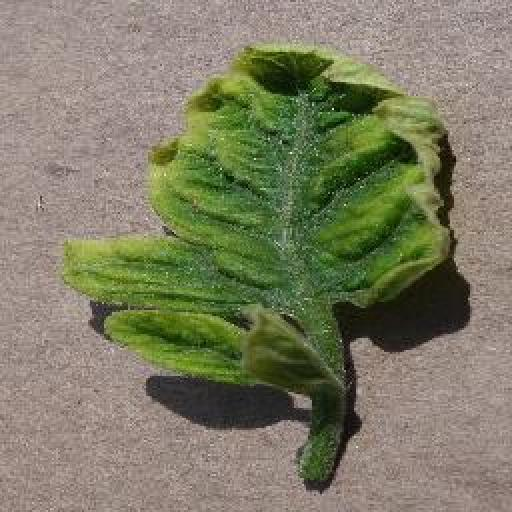disease_tomato: (63, 39, 452, 385)
